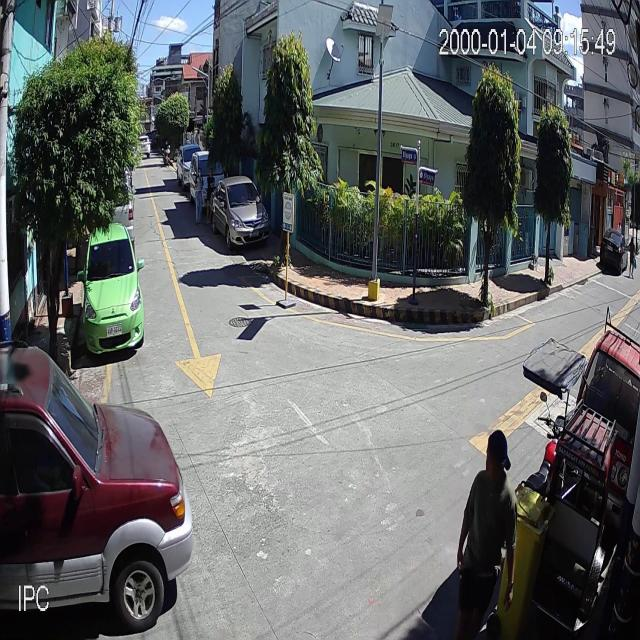walking: (458, 426, 518, 640)
